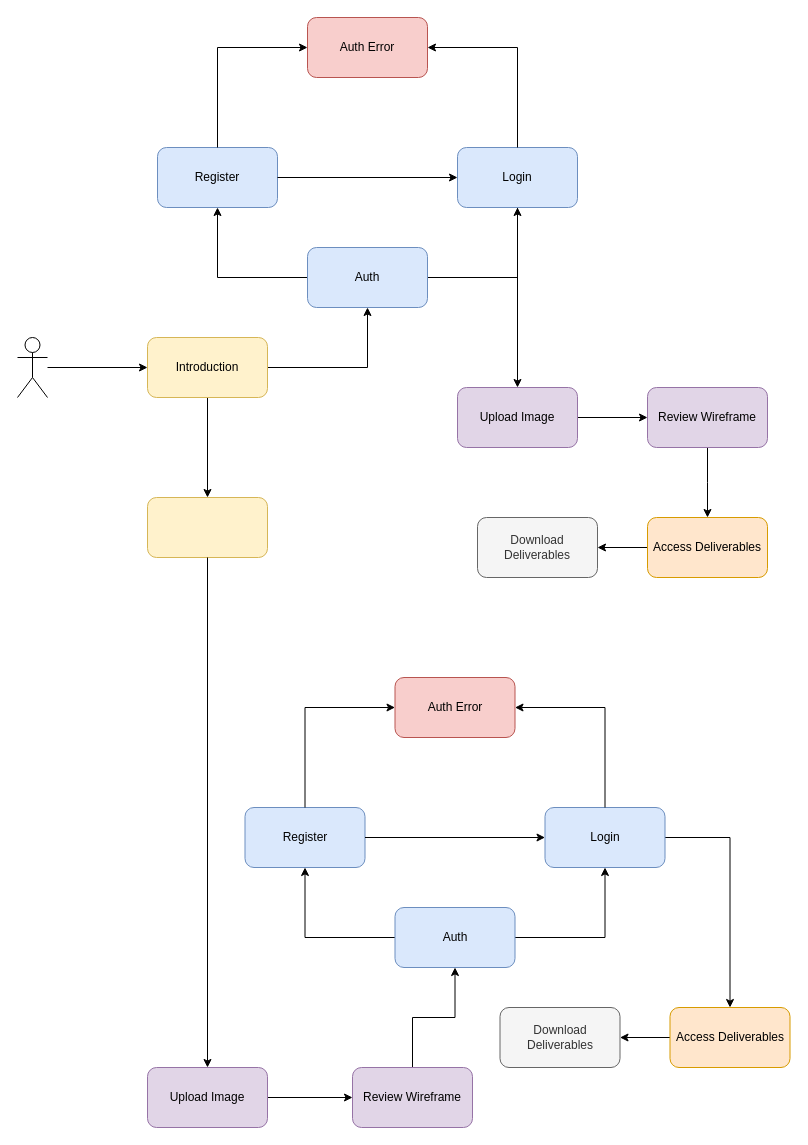
Some shapes in this 808 by 1145 pixel diagram are drawn without their labels. Here are the shapes that lost their labels. From the top down, the box of each, then its label:
(16, 336, 48, 398): Actor
(146, 496, 268, 558): Guest User
